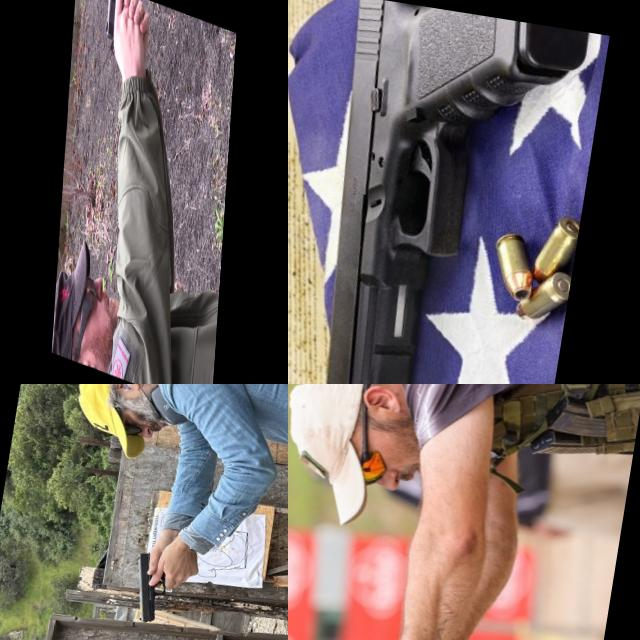handgun: (288, 0, 594, 384), (123, 543, 178, 629), (102, 0, 135, 61)
